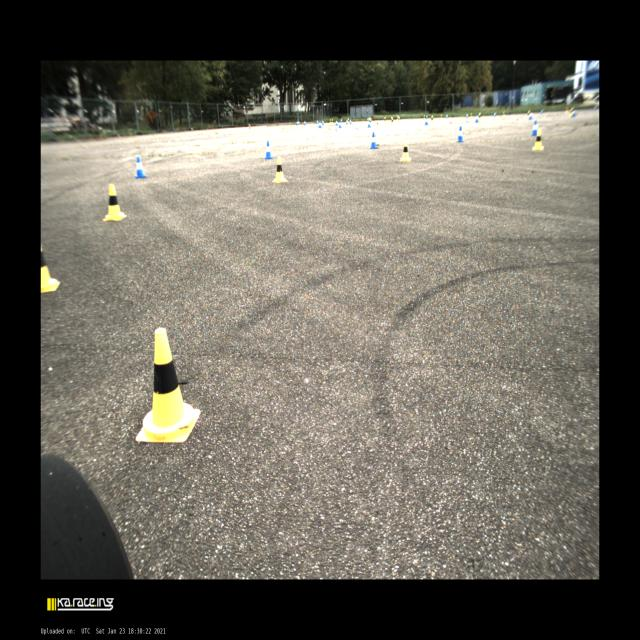blue_cone: (135, 156, 148, 178), (264, 140, 273, 160), (370, 131, 379, 149), (456, 126, 464, 143), (530, 121, 538, 136), (572, 109, 576, 118), (474, 114, 478, 123), (367, 119, 371, 128), (529, 112, 533, 120), (338, 120, 342, 128), (425, 116, 428, 126), (318, 121, 322, 128), (349, 118, 352, 125), (296, 120, 299, 126), (336, 120, 338, 126), (304, 120, 306, 126), (466, 113, 468, 118), (446, 114, 448, 119), (346, 119, 348, 124), (322, 120, 324, 125), (340, 118, 342, 123), (494, 112, 496, 116), (298, 121, 300, 125), (317, 120, 318, 124)
yellow_cone: (136, 327, 200, 443), (41, 243, 60, 294), (103, 184, 127, 221), (272, 156, 288, 183), (532, 128, 544, 151), (400, 140, 411, 162), (568, 108, 572, 117), (526, 110, 530, 118), (430, 115, 434, 123), (440, 113, 443, 120), (479, 112, 481, 120), (391, 117, 393, 125), (384, 116, 386, 124), (502, 111, 505, 116), (329, 119, 332, 124), (566, 107, 568, 114), (470, 112, 472, 119), (424, 114, 426, 120), (347, 118, 349, 124), (332, 118, 334, 124), (398, 117, 400, 122), (370, 118, 371, 125), (397, 116, 398, 120)
